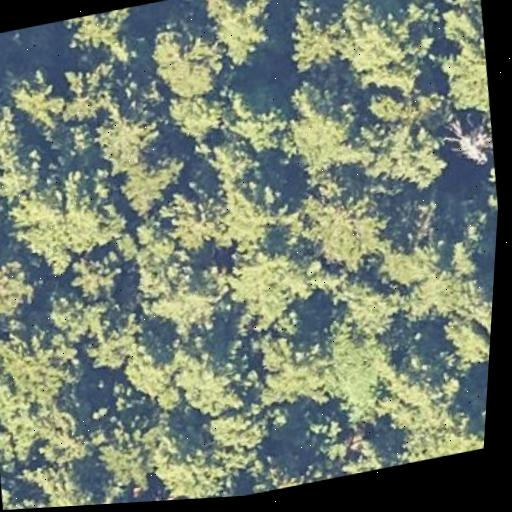tree-top: (0, 165, 135, 280), (0, 315, 97, 441), (155, 320, 262, 431), (143, 411, 270, 502), (291, 177, 403, 280), (242, 311, 343, 417), (275, 67, 371, 177), (140, 6, 240, 110), (372, 233, 486, 321), (332, 0, 438, 92), (373, 339, 468, 438), (42, 277, 137, 376), (293, 394, 397, 484), (216, 234, 311, 331), (212, 165, 304, 260), (362, 112, 454, 200), (320, 319, 398, 420), (430, 42, 499, 156), (81, 87, 166, 178), (147, 255, 234, 340), (59, 4, 151, 79), (205, 0, 287, 79), (272, 0, 353, 78), (112, 140, 192, 218), (101, 409, 171, 497), (323, 272, 407, 342), (27, 449, 118, 509), (439, 278, 494, 373), (405, 399, 487, 462), (225, 83, 290, 161), (165, 179, 230, 255), (49, 58, 120, 126), (120, 219, 183, 293), (0, 238, 48, 324), (164, 91, 234, 149), (0, 138, 53, 212), (190, 133, 263, 185), (9, 74, 67, 138), (73, 246, 130, 304), (427, 0, 488, 49), (0, 100, 38, 162), (0, 167, 16, 235), (238, 0, 330, 1)
